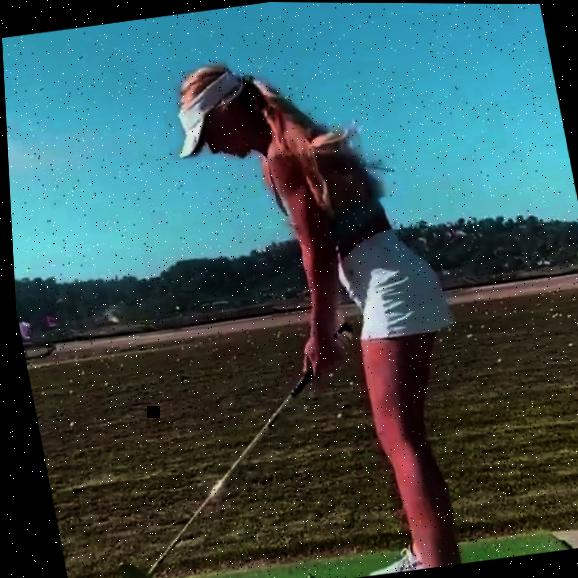ClubHead: (111, 559, 146, 578)
